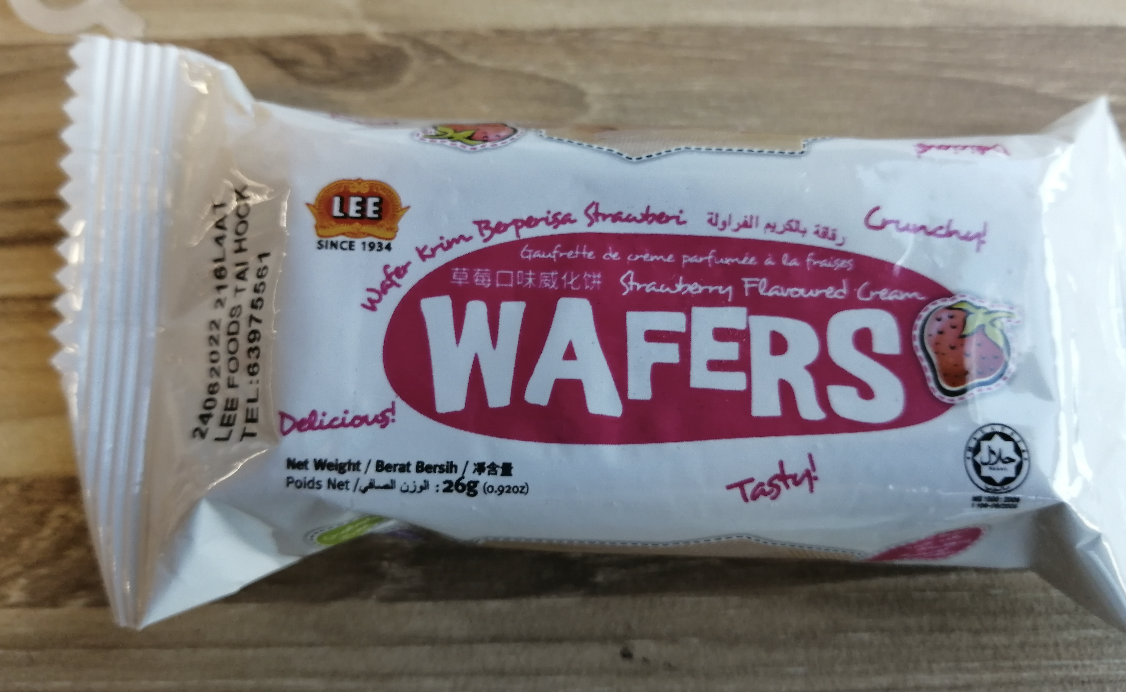Wafers: (131, 150, 1094, 524)
